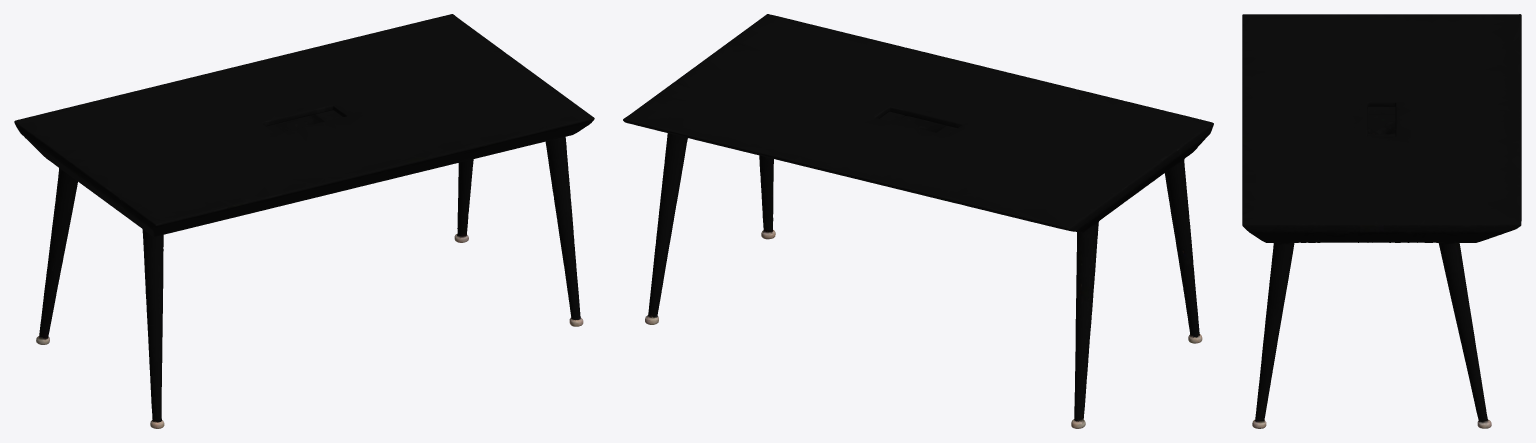
File: fm_dining_table_charcoal.glb
The picture shows the model from 3 angles, left to right: view 1: azimuth 30°, elevation 25°; view 2: azimuth 150°, elevation 25°; view 3: azimuth 270°, elevation 25°; orthographic projection. The views are drawn at different scales.
Visible parts, largest first — view 1: geometry_0; view 2: geometry_0; view 3: geometry_0.
Part boxes in pixels (<box>): geometry_0: <box>14,14,594,428</box>; geometry_0: <box>623,14,1213,428</box>; geometry_0: <box>1242,14,1521,428</box>.
Size of the model in its own units: 1 by 0.4611 by 0.563.
Materials: 1 (1 with a texture image).
